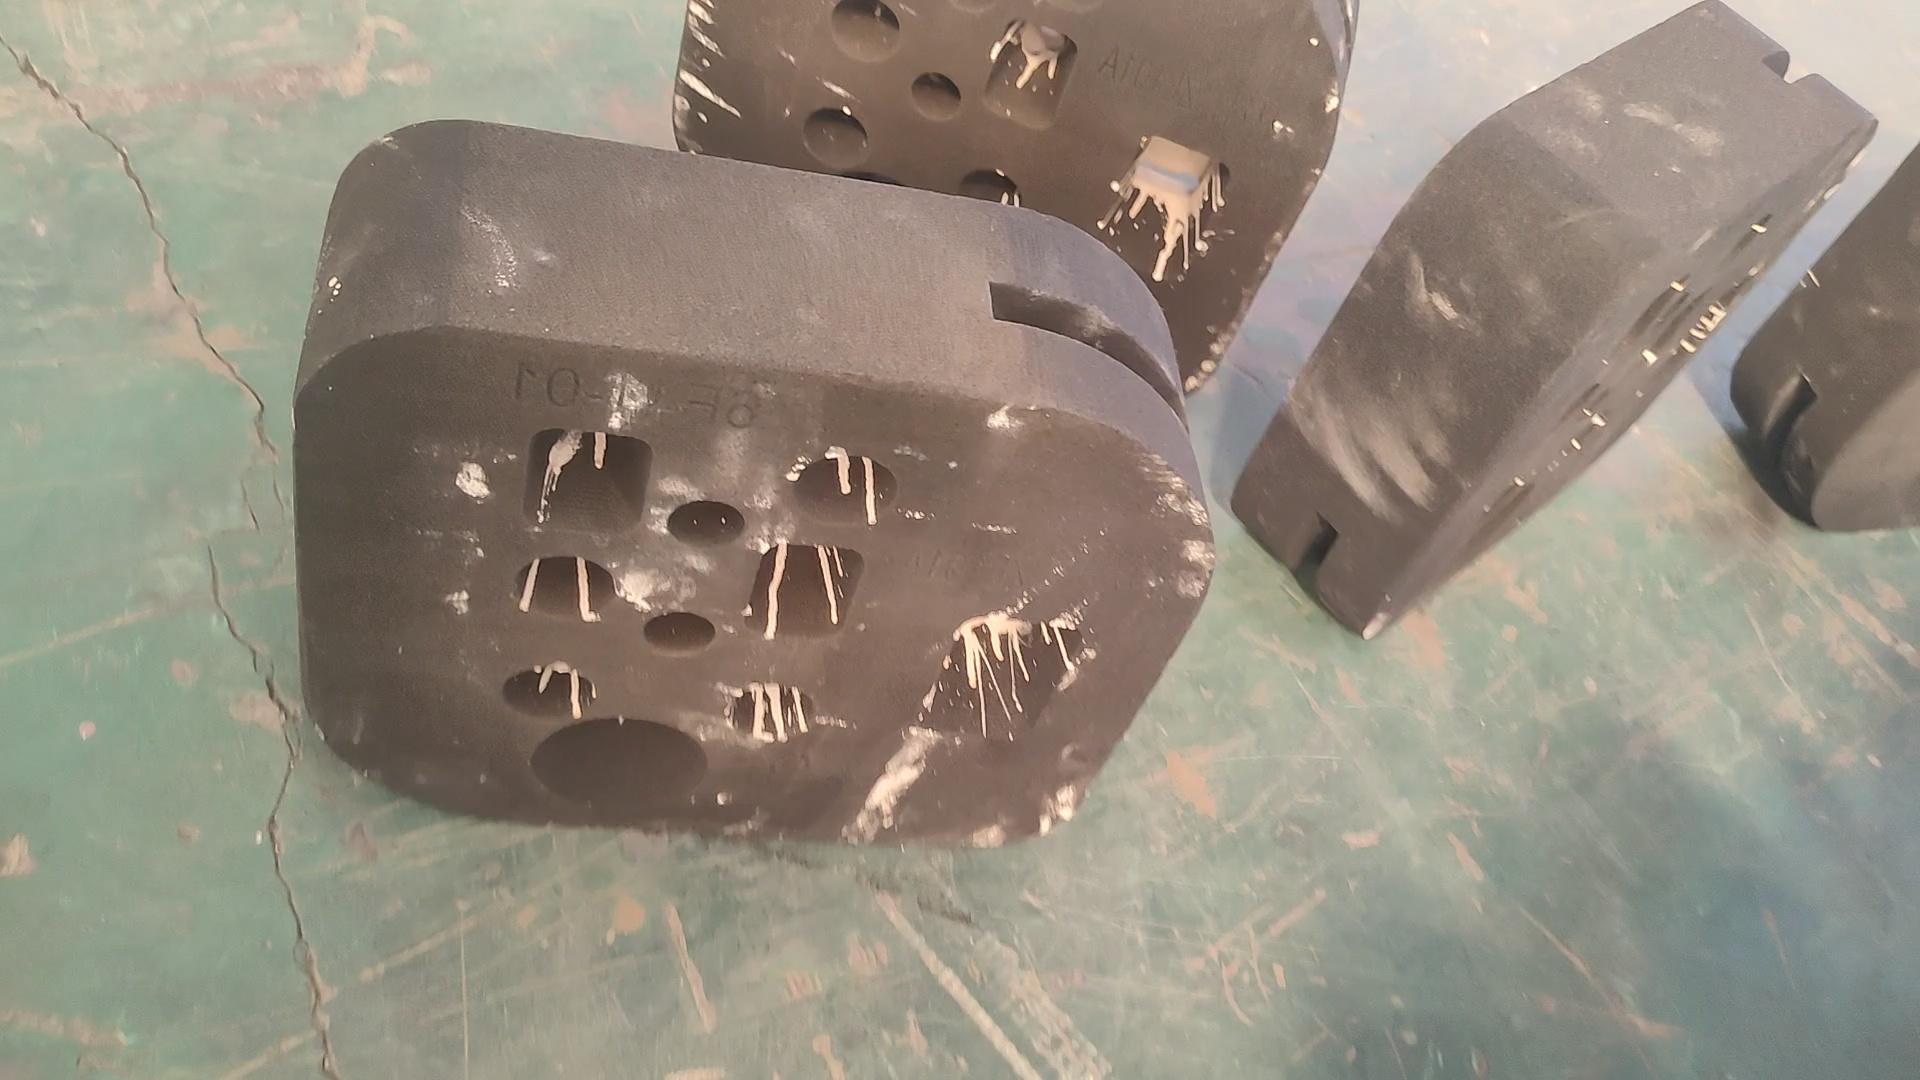pouring hole: (531, 720, 709, 814), (828, 171, 916, 241)
